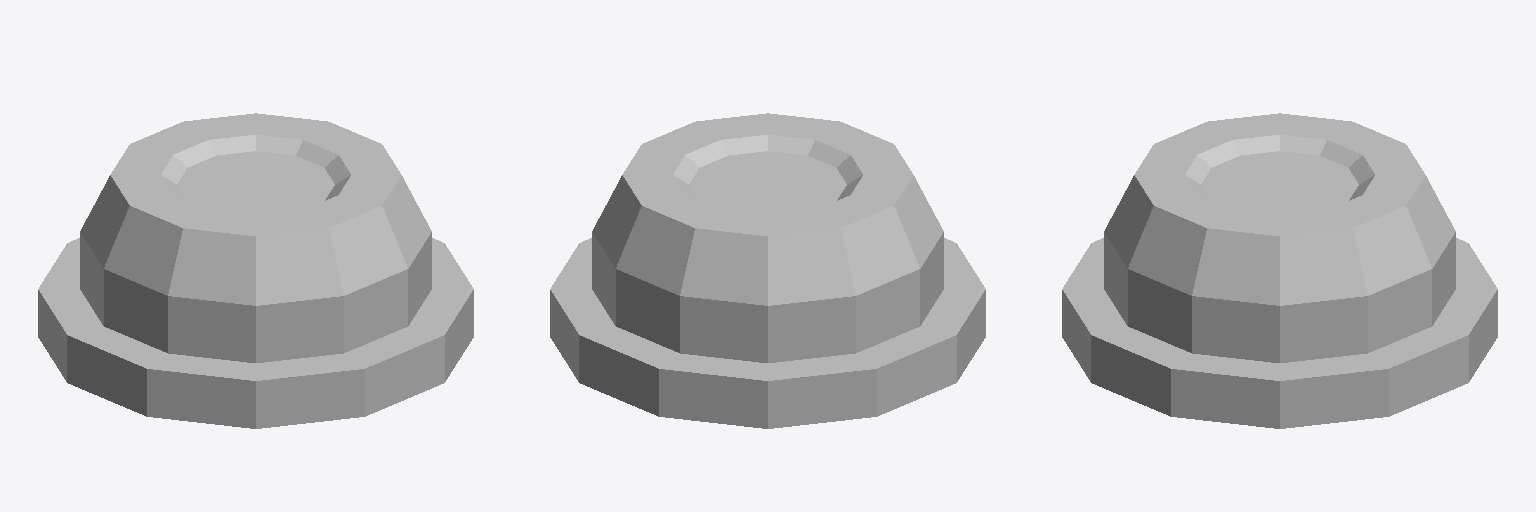
Rendered from Kitchen_smoke_dector.obj.
3 renders of one model, left to right at view 1: azimuth 30°, elevation 25°; view 2: azimuth 150°, elevation 25°; view 3: azimuth 270°, elevation 25°, orthographic.
Parts seen in each view (by area): view 1: pCylinder1; view 2: pCylinder1; view 3: pCylinder1.
Part boxes in pixels (x1,y1,x2,y2): pCylinder1: (38, 113, 473, 428); pCylinder1: (550, 113, 985, 428); pCylinder1: (1062, 113, 1497, 428).
Bounding box in the file's own units: 14.07 × 5.78 × 14.07.